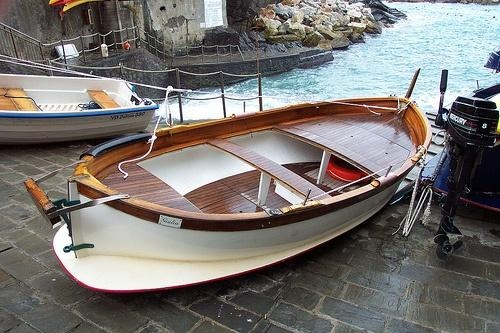boat: (28, 96, 435, 295), (1, 75, 159, 144)
